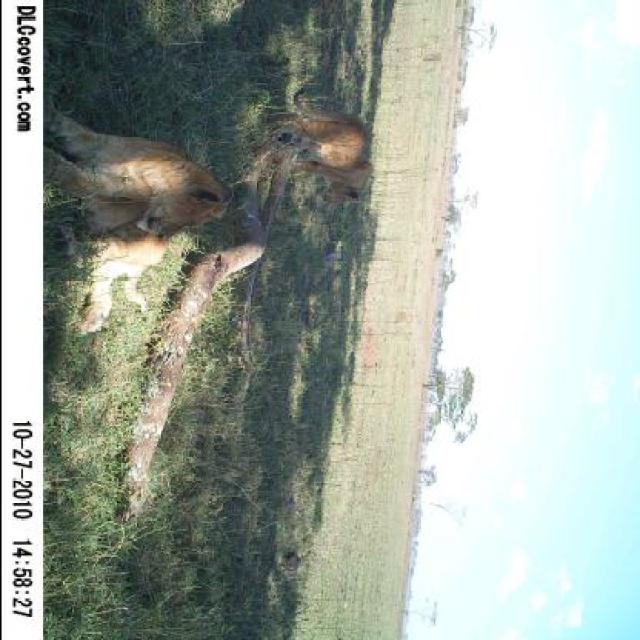Lion: (54, 103, 234, 346), (268, 80, 390, 215)
